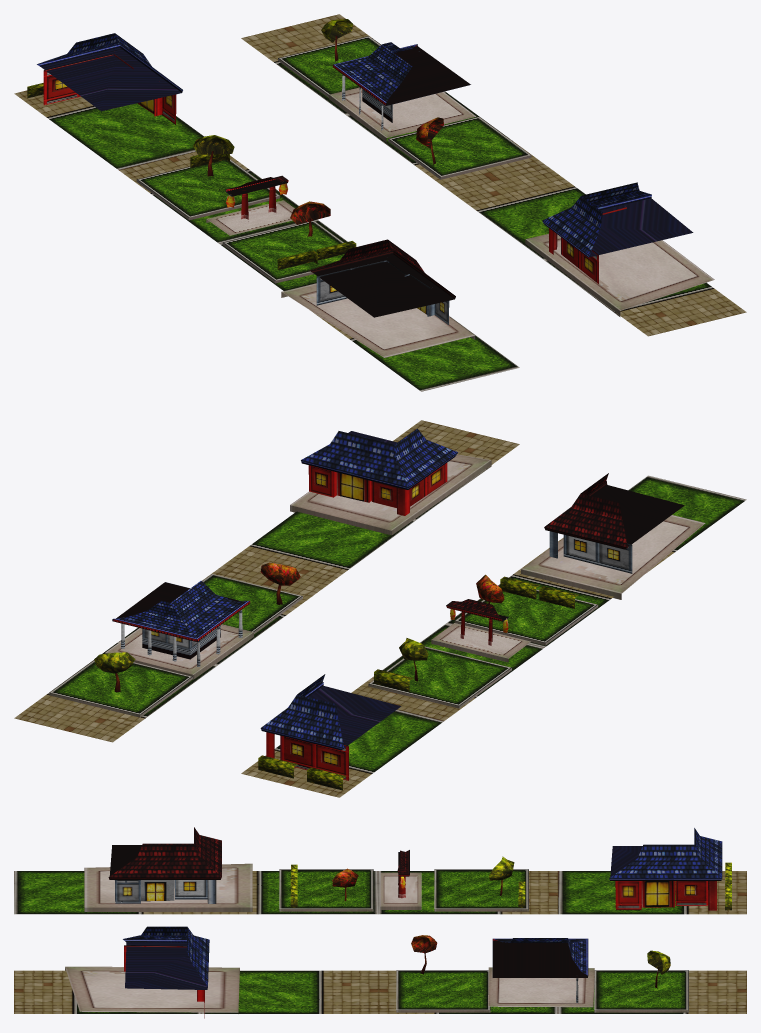
Rendered from as_oldcity_mid2.fbx.
The picture shows the model from 3 angles, top to bottom: view 1: azimuth 30°, elevation 25°; view 2: azimuth 150°, elevation 25°; view 3: azimuth 270°, elevation 25°; orthographic projection. The views are drawn at different scales.
Visible parts, largest first — view 1: as_oldcity_mid2; view 2: as_oldcity_mid2; view 3: as_oldcity_mid2.
Boxes of the visible parts, x1=… form: as_oldcity_mid2: x1=14, y1=14, x2=746, y2=391; as_oldcity_mid2: x1=14, y1=420, x2=746, y2=797; as_oldcity_mid2: x1=14, y1=827, x2=746, y2=1018.
Size of the model in its own units: 4901 by 952 by 10000.
